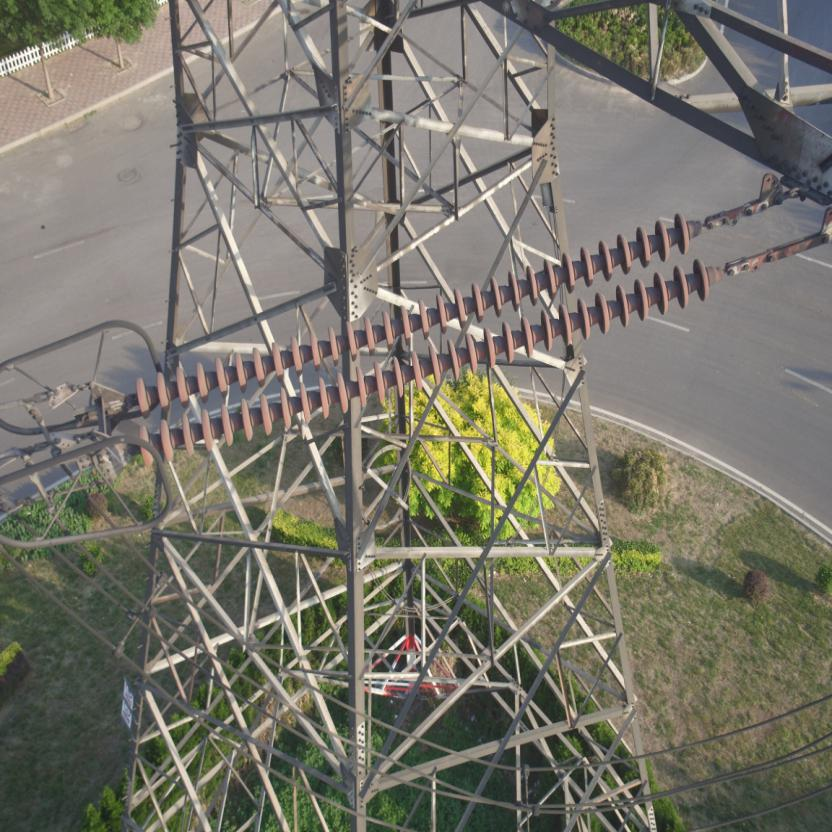insulator: (124, 208, 741, 474)
